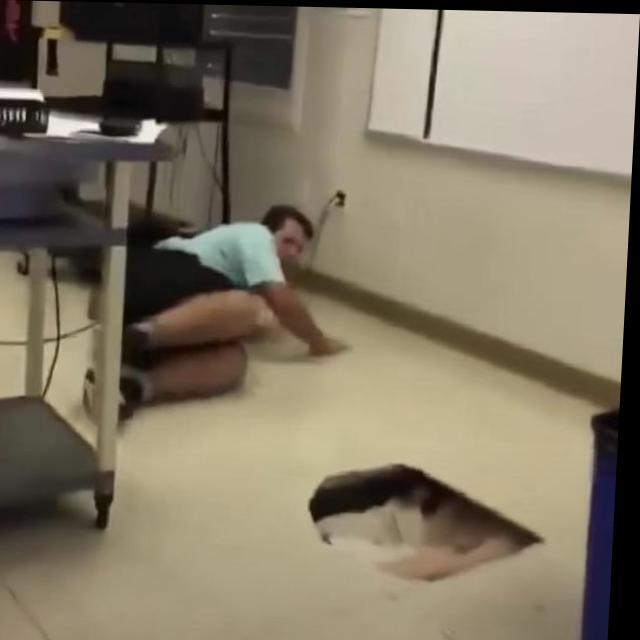fall: (101, 193, 363, 410)
